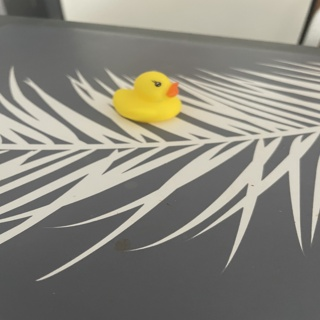duck_regular: (111, 71, 190, 124)
